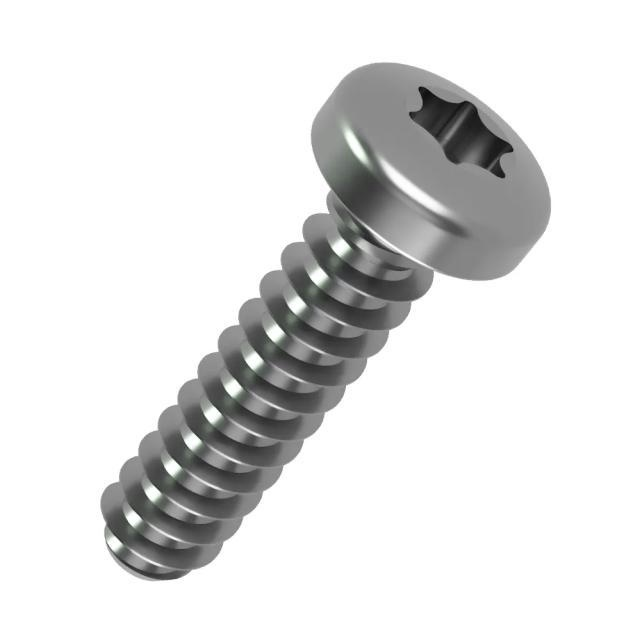torx: (308, 59, 552, 284)
